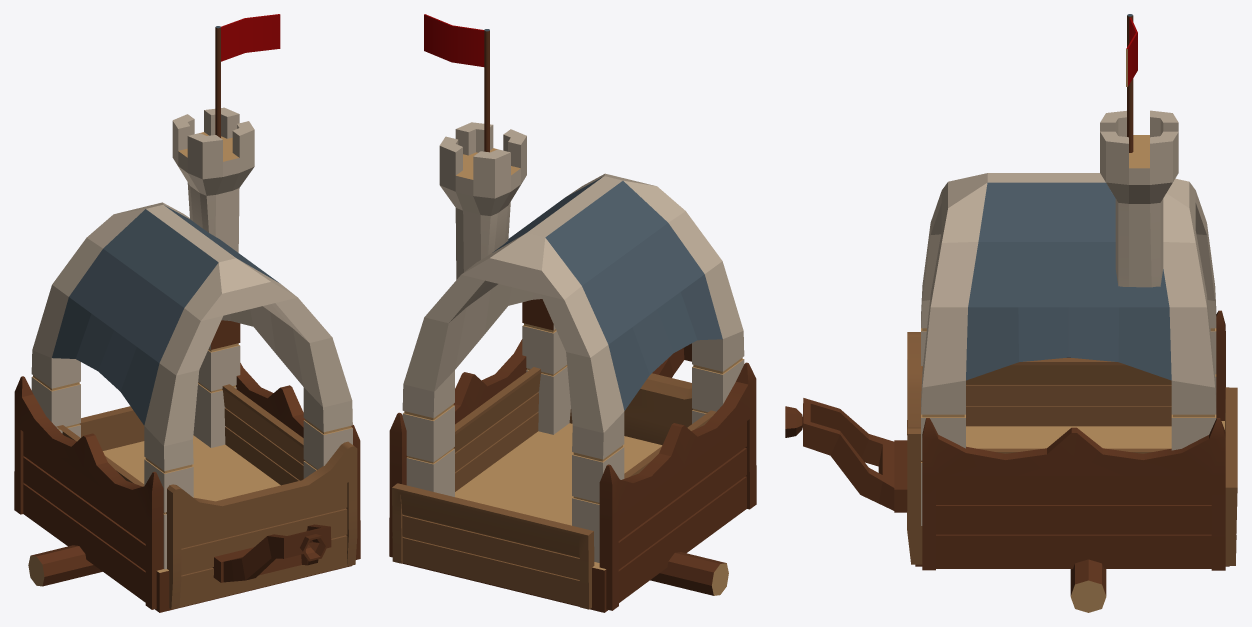
File: Castle_Cab.fbx
3 views of the same model, side by side, from view 1: azimuth 30°, elevation 25°; view 2: azimuth 150°, elevation 25°; view 3: azimuth 270°, elevation 25° (orthographic). The views are drawn at different scales.
Visible parts, largest first — view 1: polySurface38; view 2: polySurface38; view 3: polySurface38.
Part boxes in pixels (x1=…): polySurface38: x1=14, y1=14, x2=360, y2=612; polySurface38: x1=389, y1=14, x2=756, y2=612; polySurface38: x1=785, y1=14, x2=1237, y2=612.
Bounding box in the file's own units: 131 × 218 × 162.
